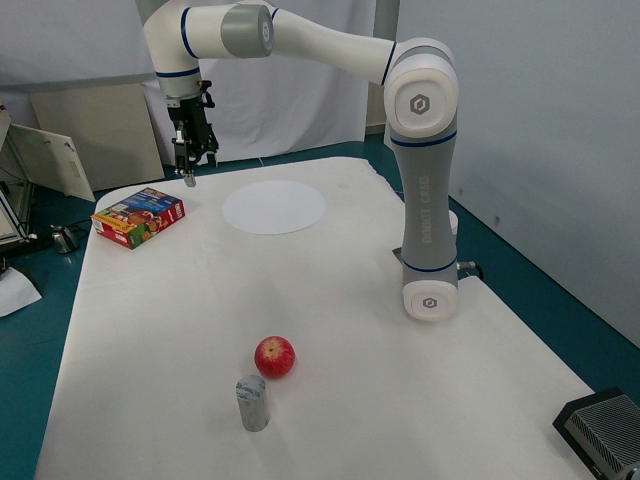apple: (251, 330, 301, 382)
metalROD: (228, 367, 276, 432)
